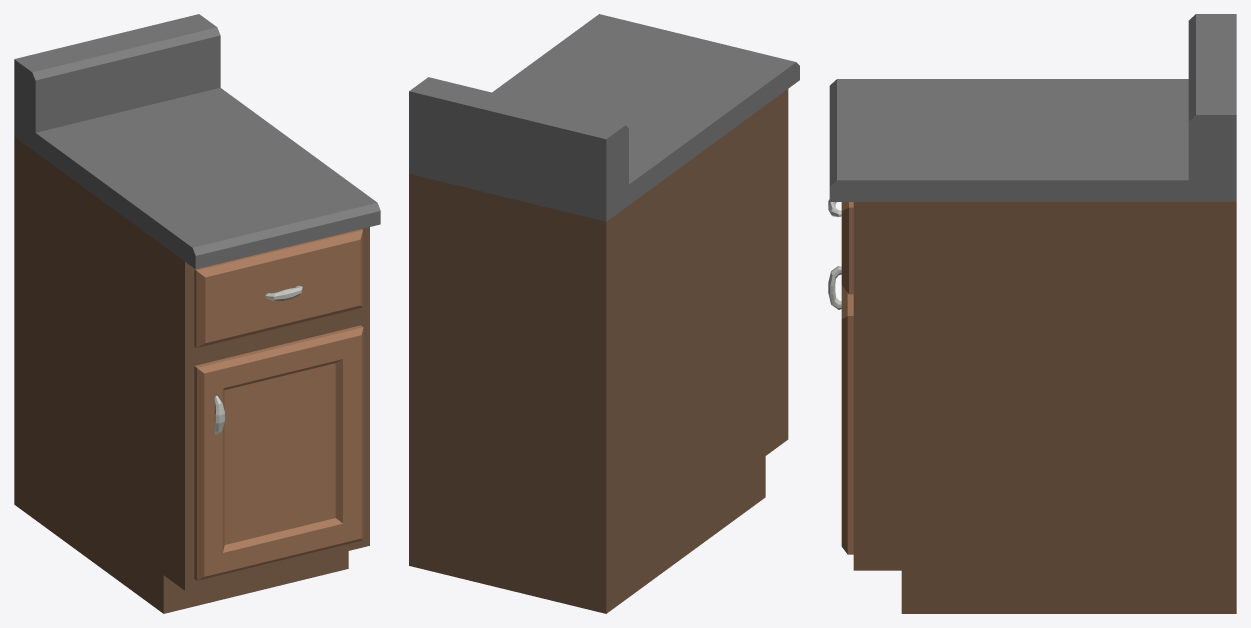
The model's file is Structure_Kitchen_Cabinet_Base_Half.obj.
The picture shows the model from 3 angles, left to right: view 1: azimuth 30°, elevation 25°; view 2: azimuth 150°, elevation 25°; view 3: azimuth 270°, elevation 25°; orthographic projection. The views are drawn at different scales.
Parts seen in each view (by area): view 1: object2, object5, object1, object3; view 2: object2, object5; view 3: object2, object5, object1, object3.
Part boxes in pixels (x1,y1,x2,y2): object2: [14, 137, 369, 613]; object5: [14, 14, 380, 269]; object1: [194, 325, 363, 580]; object3: [194, 229, 362, 347]; object2: [409, 89, 788, 613]; object5: [409, 14, 799, 221]; object2: [853, 202, 1236, 613]; object5: [829, 14, 1236, 201]; object1: [841, 285, 853, 554]; object3: [828, 199, 853, 294].
Bounding box in the file's own units: 0.5 × 1.15 × 0.8531.
